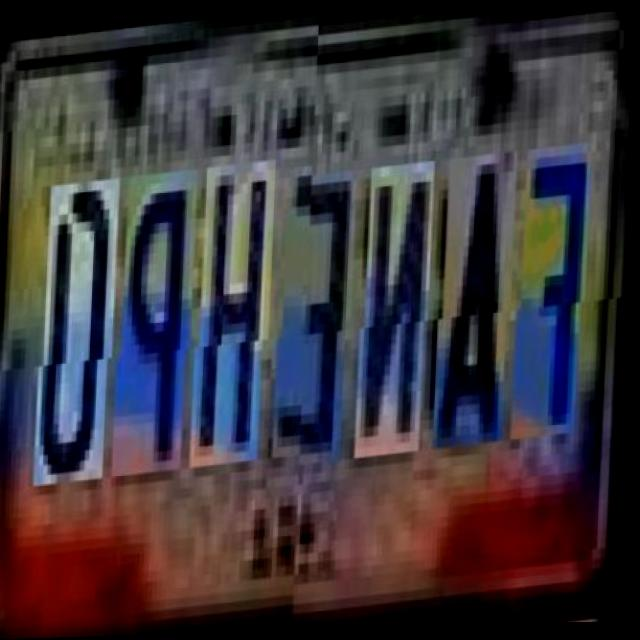0: (38, 179, 116, 486)
a: (437, 152, 515, 448)
e: (277, 167, 355, 463)
f: (515, 146, 590, 441)
h: (194, 164, 272, 471)
n: (358, 161, 433, 455)
p: (116, 173, 195, 478)
